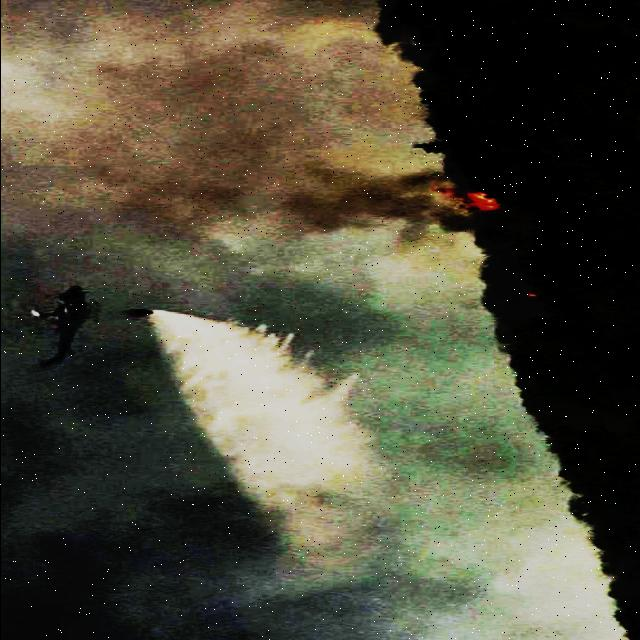api: (431, 179, 502, 227)
asap: (257, 161, 477, 260)
